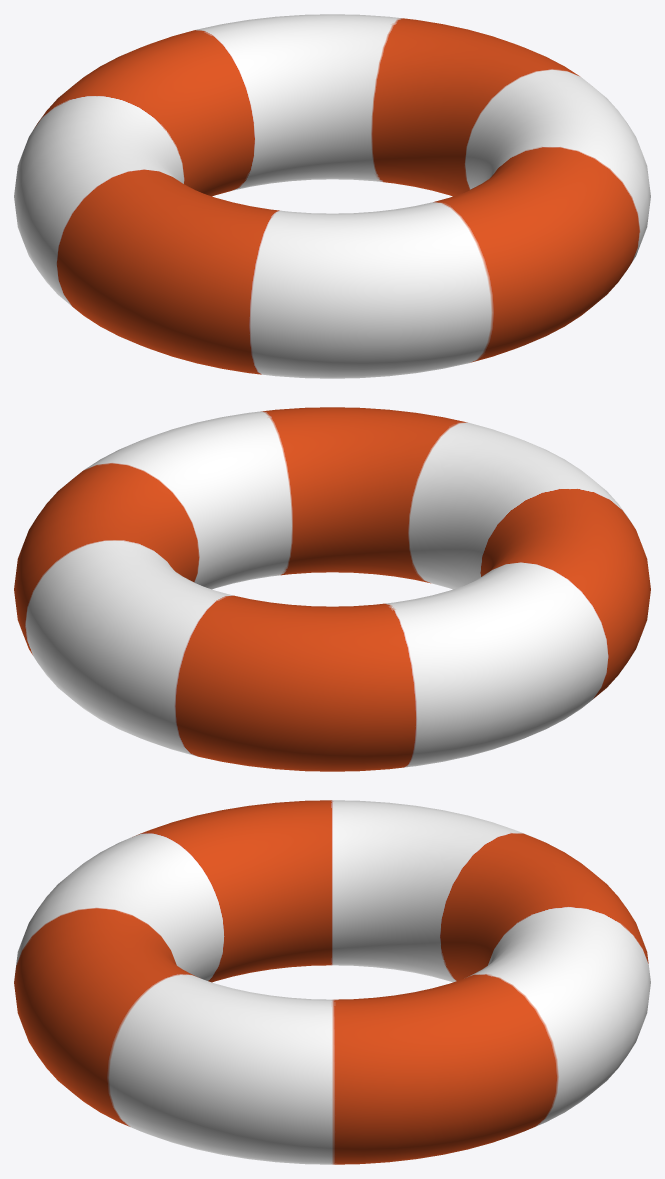
Rendered from SwimRing_S.fbx.
The picture shows the model from 3 angles, top to bottom: view 1: azimuth 30°, elevation 25°; view 2: azimuth 150°, elevation 25°; view 3: azimuth 270°, elevation 25°; orthographic projection.
Visible parts, largest first — view 1: SwimRing_S; view 2: SwimRing_S; view 3: SwimRing_S.
Boxes of the visible parts, x1,y1,x2,y2 form: SwimRing_S: (14, 14, 650, 378); SwimRing_S: (14, 407, 650, 771); SwimRing_S: (14, 800, 650, 1164).
Bounding box in the file's own units: 0.54 × 0.14 × 0.54.
